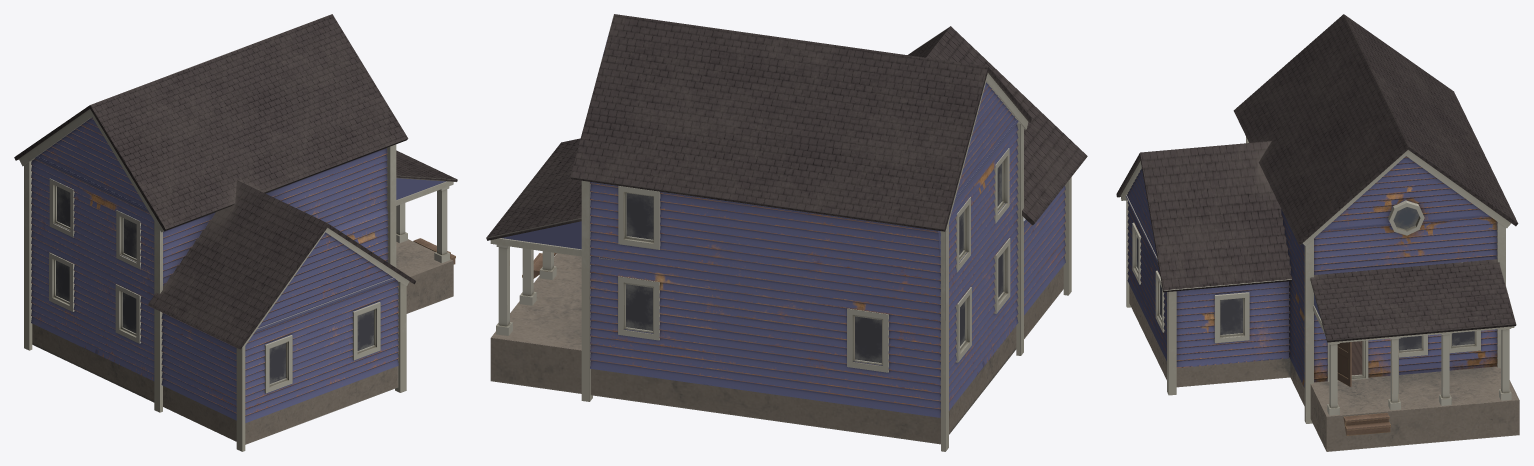
The model's file is house_twostory.glb.
The picture shows the model from 3 angles, left to right: view 1: azimuth 30°, elevation 25°; view 2: azimuth 150°, elevation 25°; view 3: azimuth 270°, elevation 25°; orthographic projection. The views are drawn at different scales.
Size of the model in its own units: 9.23 by 6.29 by 8.44.
Materials: 6 (5 with a texture image).
